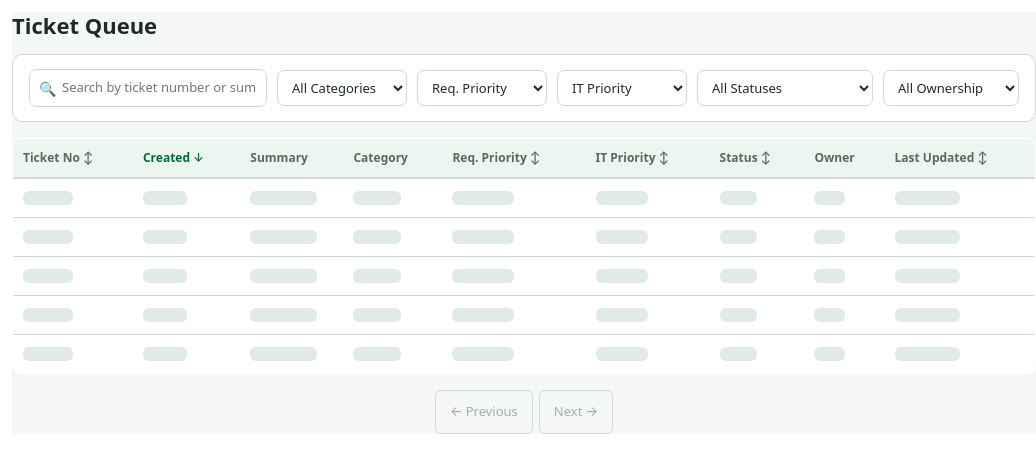
Scenario: UI-03: Staff Ticket Queue Component (Lab 3 — Issue #5) › Search input › clicking Clear Filters resets search text
Step 1. Type "test" into the field with placeholder "Search by ticket number or summary…" → [148, 88], box [29,69,267,107]
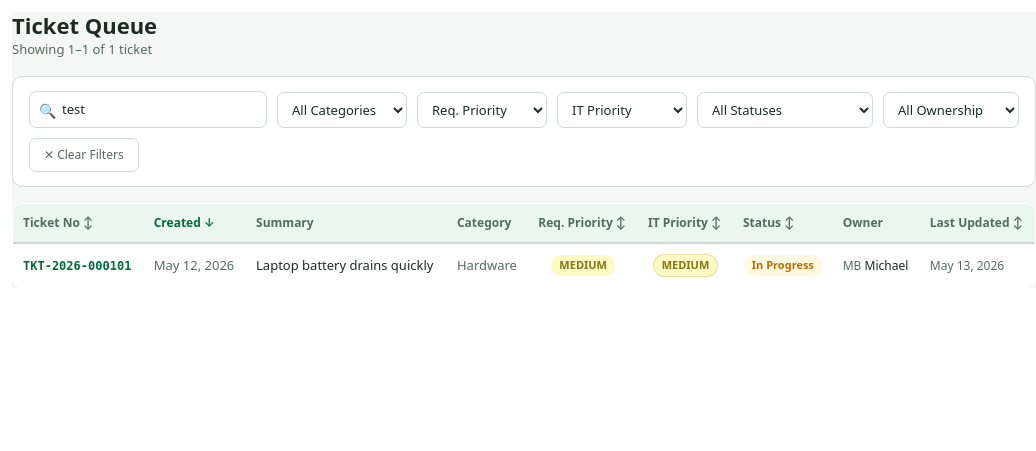
Expected: the button with aria-label "clear all filters" is shown
Step 2. Click the button with aria-label "clear all filters" → [84, 155], box [29,138,139,172]
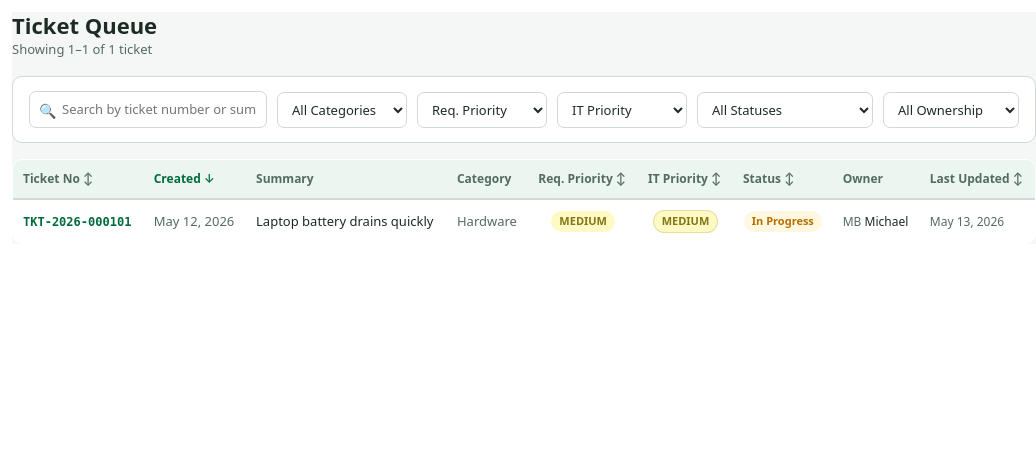
Expected: the field with placeholder "Search by ticket number or summary…" is empty, [29,91,267,128]
